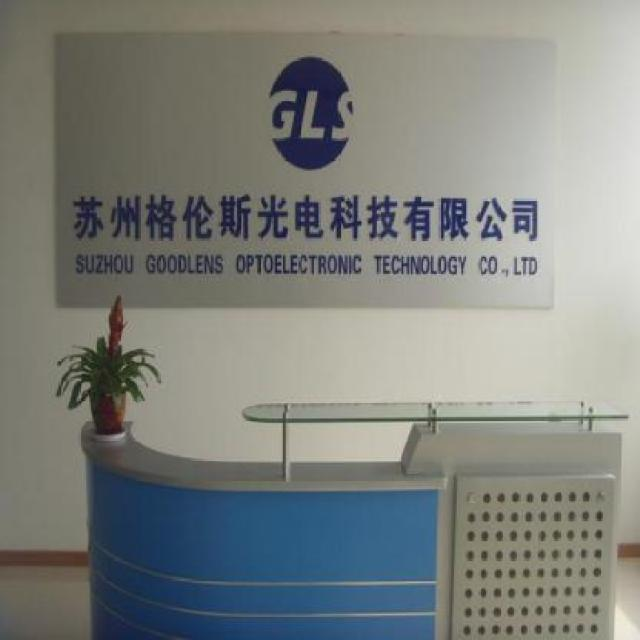frontdesk: (63, 363, 633, 640)
